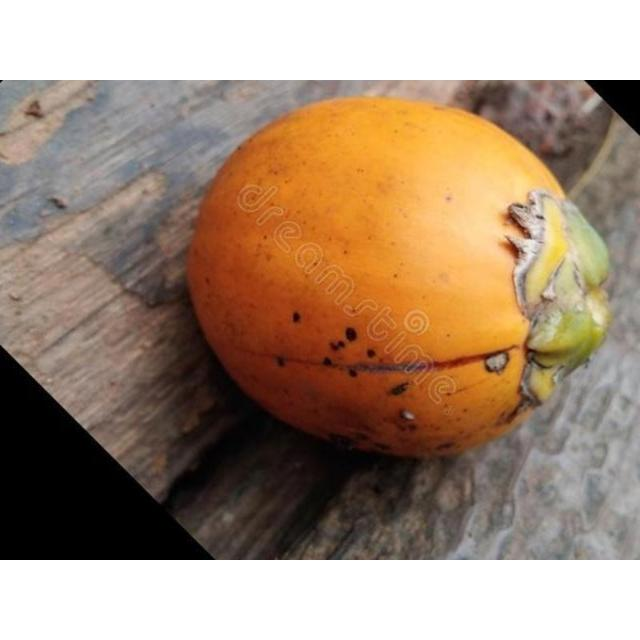good: (185, 97, 612, 461)
